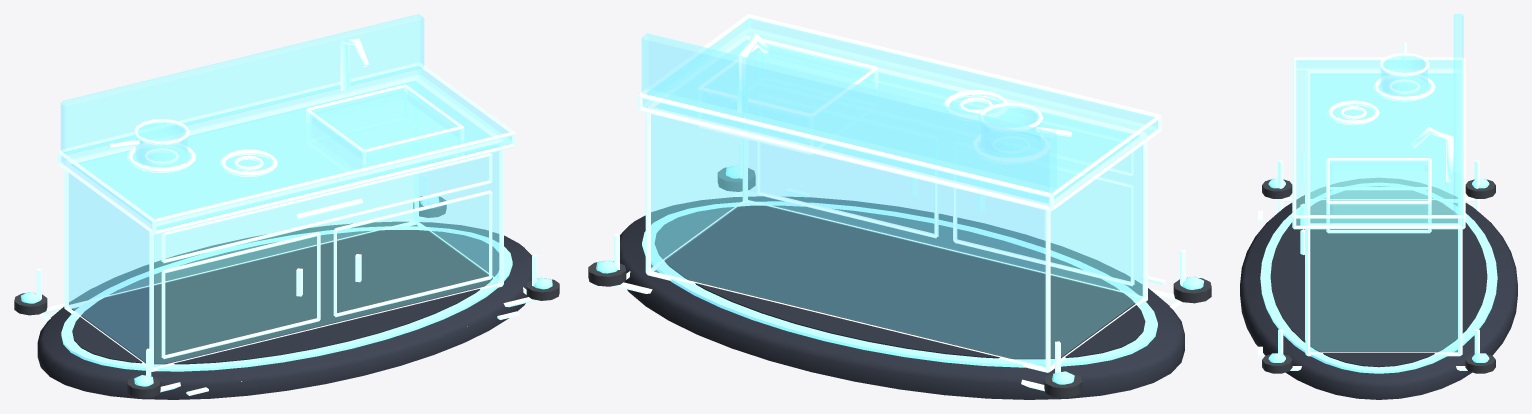
The model's file is bancada.glb.
3 views of the same model, side by side, from view 1: azimuth 30°, elevation 25°; view 2: azimuth 150°, elevation 25°; view 3: azimuth 270°, elevation 25° (orthographic). The views are drawn at different scales.
Visible parts, largest first — view 1: holograma, projetor; view 2: holograma, projetor; view 3: holograma, projetor.
Boxes of the visible parts, x1,y1,x2,y2 form: holograma: (36, 14, 537, 395); projetor: (14, 194, 559, 399); holograma: (614, 14, 1185, 391); projetor: (588, 165, 1211, 399); holograma: (1258, 14, 1479, 370); projetor: (1240, 178, 1517, 399).
Size of the model in its own units: 2.9 by 1.38 by 1.64.
